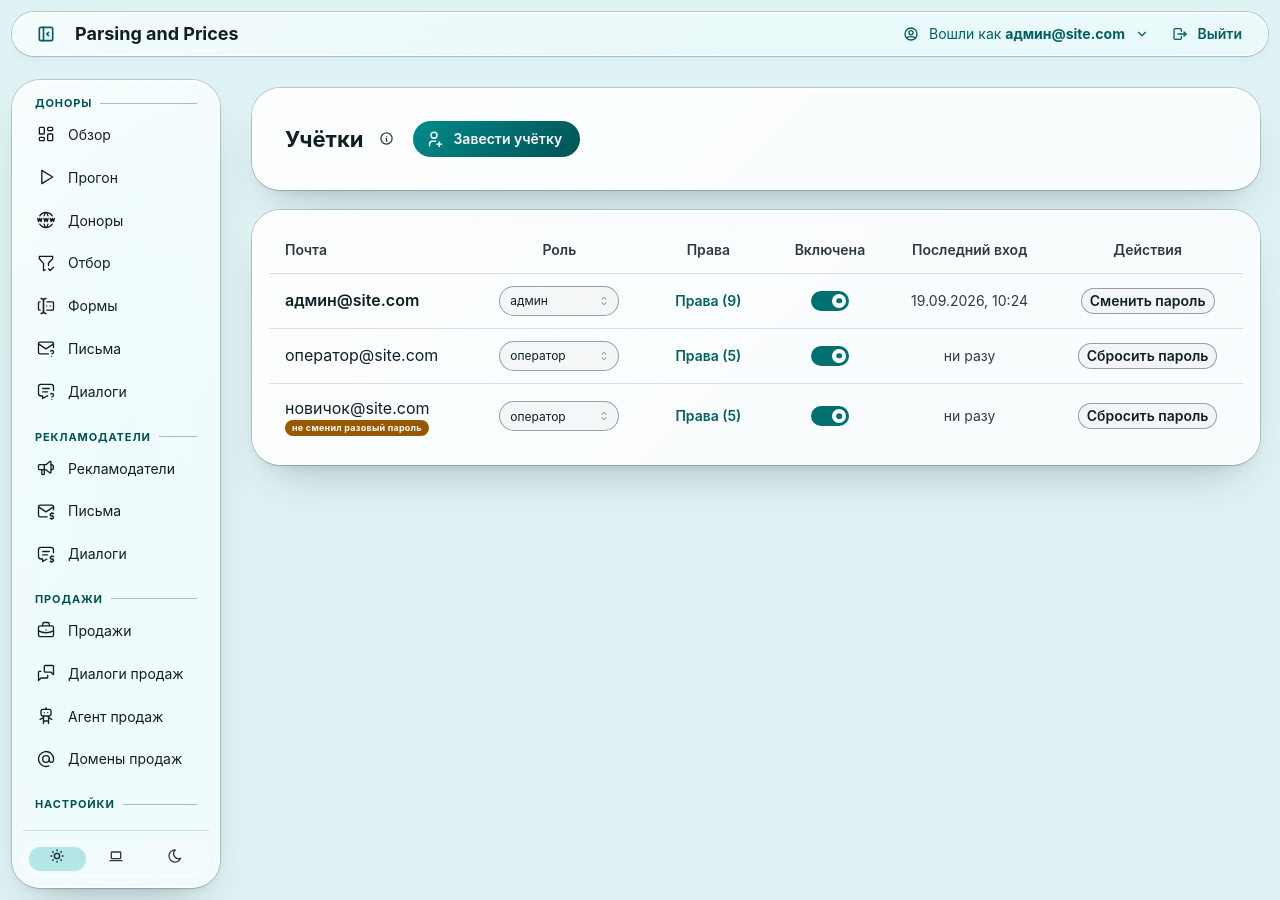
Test: учётки › отказ сервера показывается целиком
Expected: the text "оператор@site.com" is shown, left=285, top=343, right=459, bottom=368
Click the switch named "Учётка админ@site.com включена": (830, 301) left=811, top=291, right=849, bottom=311
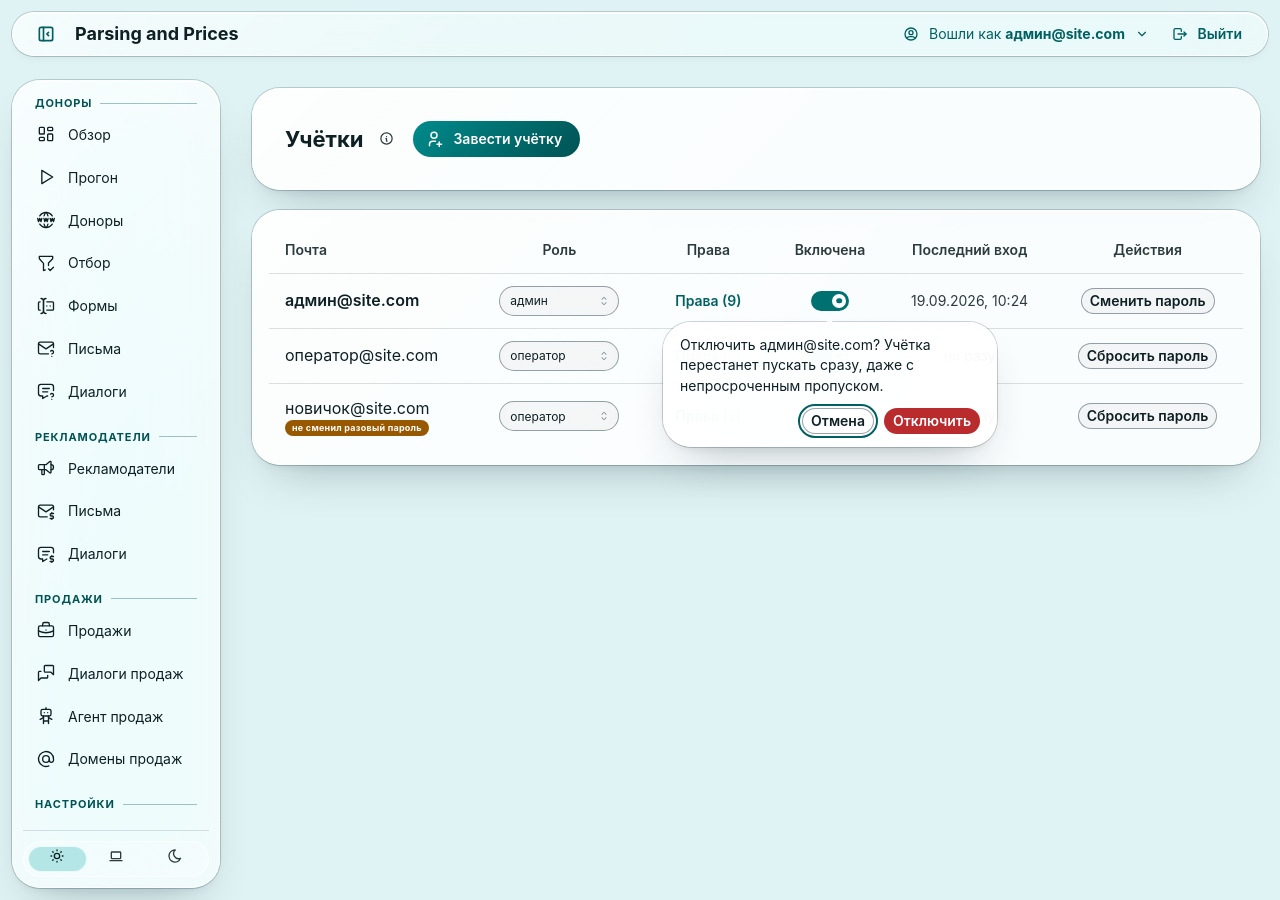
Click the button "Отключить": (932, 421) left=884, top=408, right=980, bottom=434
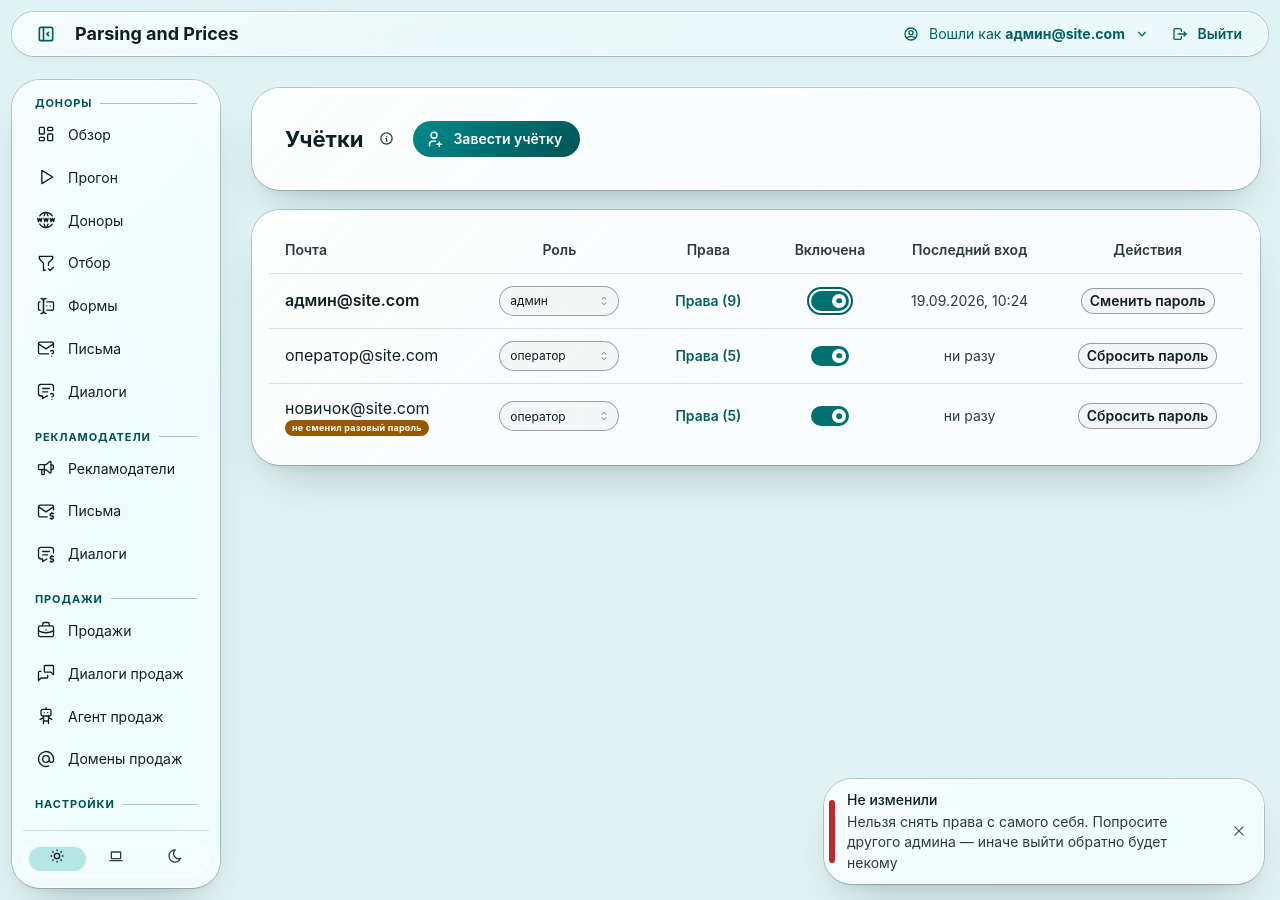
Expected: the text "Попросите другого админа" is shown, left=847, top=813, right=1167, bottom=871
